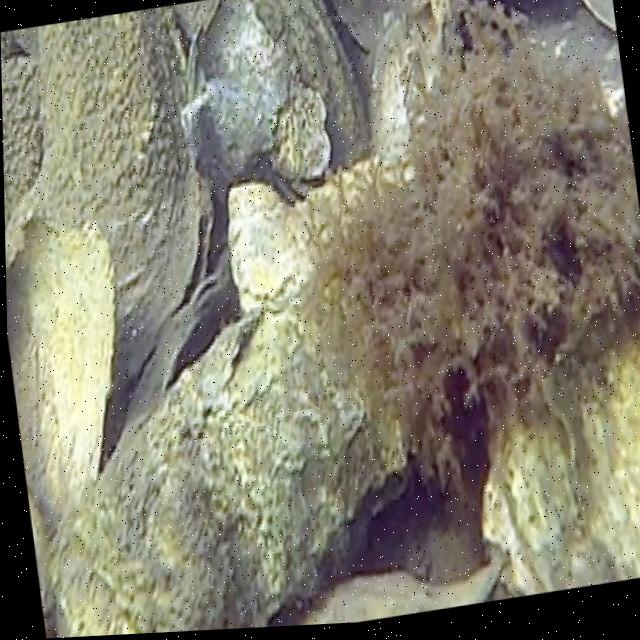Oyster-Closed: (40, 6, 216, 394), (274, 0, 371, 167), (272, 85, 333, 195)
Oyster-Indeterminate: (52, 281, 410, 638), (489, 338, 640, 596), (6, 206, 113, 540), (231, 152, 415, 312), (1, 58, 43, 275)
